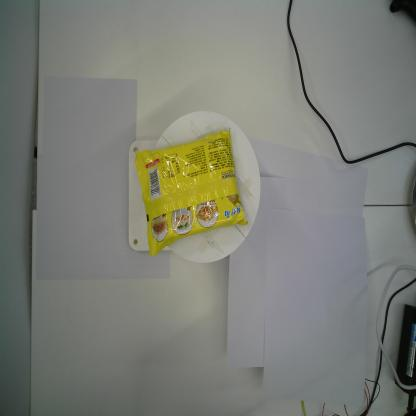Instant Noodles: (135, 127, 249, 258)
